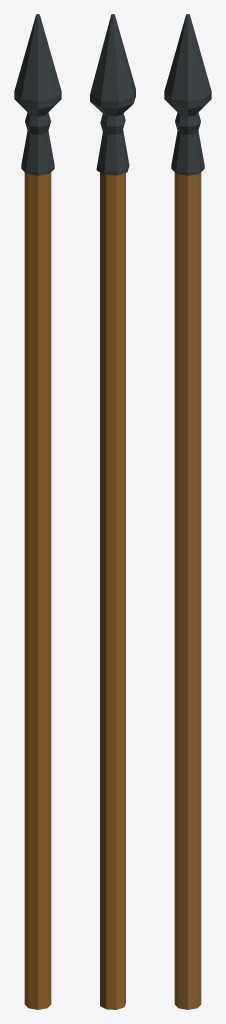
File: spear.fbx
3 renders of one model, left to right at view 1: azimuth 90°, elevation 25°; view 2: azimuth 150°, elevation 25°; view 3: azimuth 270°, elevation 25°, orthographic.
Parts seen in each view (by area): view 1: Cylinder.018; view 2: Cylinder.018; view 3: Cylinder.018.
Part boxes in pixels (<box>): Cylinder.018: <box>14,14,61,1009</box>; Cylinder.018: <box>90,14,135,1009</box>; Cylinder.018: <box>164,14,211,1009</box>.
Size of the model in its own units: 3215 by 73855 by 3215.
